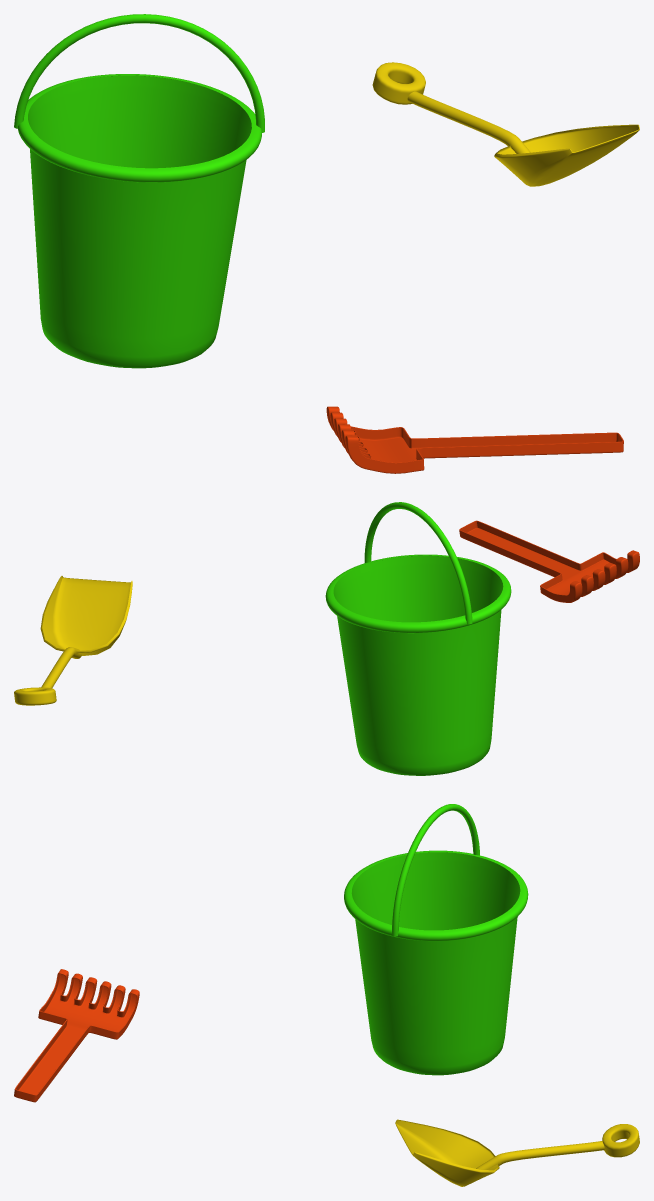
File: Shovel.glb
The picture shows the model from 3 angles, top to bottom: view 1: azimuth 30°, elevation 25°; view 2: azimuth 150°, elevation 25°; view 3: azimuth 270°, elevation 25°; orthographic projection. The views are drawn at different scales.
Parts seen in each view (by area): view 1: Subdivision_Surface_3, Cube, fork; view 2: Subdivision_Surface_3, Cube, fork; view 3: Subdivision_Surface_3, fork, Cube.
Part boxes in pixels (x1,y1,x2,y2): Subdivision_Surface_3: (14, 14, 264, 368); Cube: (372, 62, 639, 186); fork: (326, 406, 623, 473); Subdivision_Surface_3: (325, 502, 511, 775); Cube: (14, 576, 132, 705); fork: (459, 520, 639, 602); Subdivision_Surface_3: (344, 804, 528, 1075); fork: (14, 969, 139, 1102); Cube: (395, 1119, 639, 1186).
Bounding box in the file's own units: 0.3239 × 0.168 × 0.3948.
